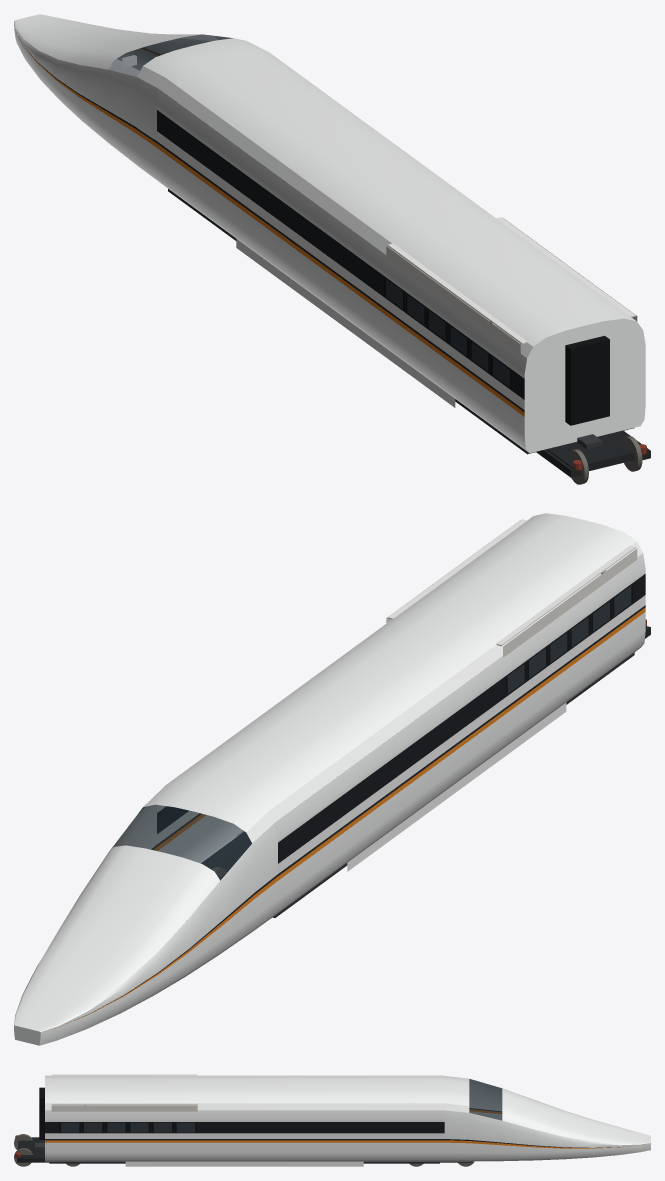
Rendered from thsr-700t-lead.glb.
3 views of the same model, one above another, from view 1: azimuth 30°, elevation 25°; view 2: azimuth 150°, elevation 25°; view 3: azimuth 270°, elevation 25° (orthographic). The views are drawn at different scales.
Visible parts, largest first — view 1: THSR700T_Lead; view 2: THSR700T_Lead; view 3: THSR700T_Lead.
Boxes of the visible parts, bbox=[...] form: THSR700T_Lead: bbox=[14, 14, 650, 484]; THSR700T_Lead: bbox=[14, 513, 650, 1045]; THSR700T_Lead: bbox=[14, 1074, 650, 1166].
Bounding box in the file's own units: 3.39 × 3.64 × 28.38.
